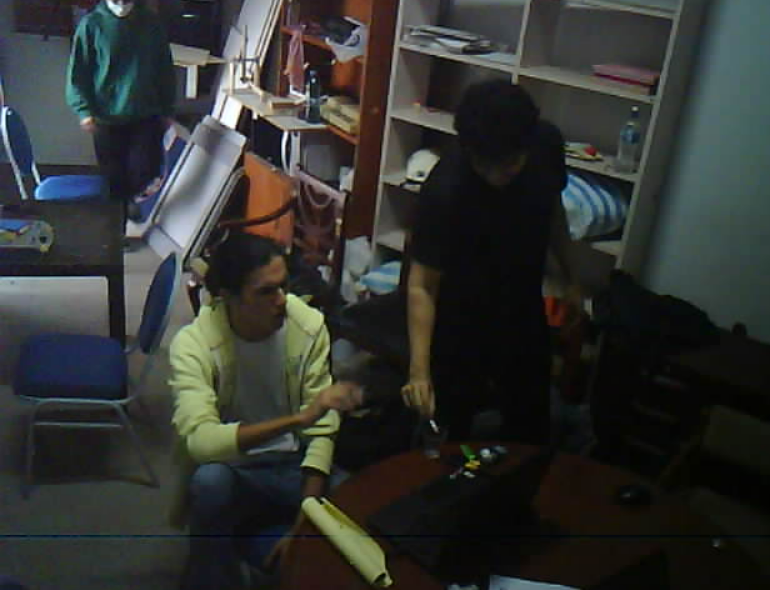person: (393, 55, 596, 458), (156, 228, 354, 590), (62, 0, 183, 232)
